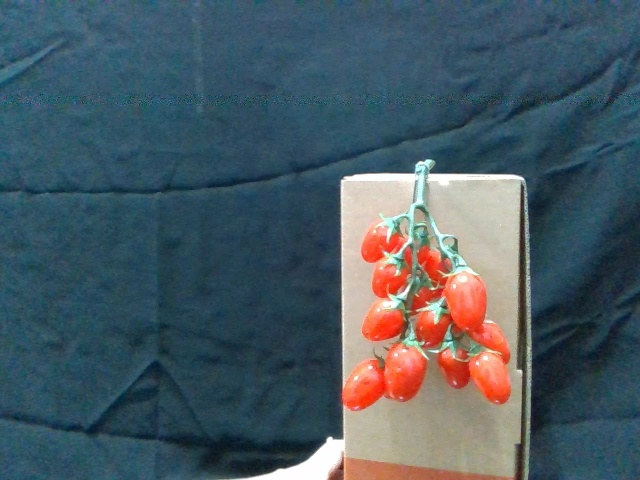tomato: (446, 260, 487, 331), (468, 344, 513, 406), (341, 354, 386, 412), (387, 338, 426, 402), (365, 292, 409, 343), (414, 298, 454, 349), (361, 216, 404, 262), (438, 334, 472, 389), (373, 250, 410, 297), (477, 320, 512, 363)
